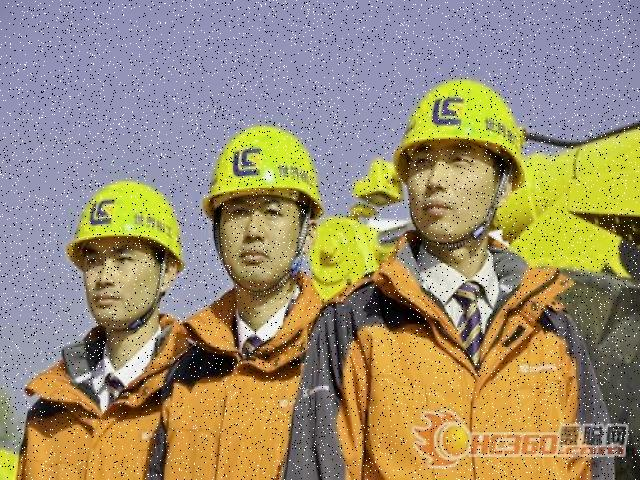Helmet: (389, 71, 528, 198), (57, 173, 191, 275), (197, 119, 326, 221)
